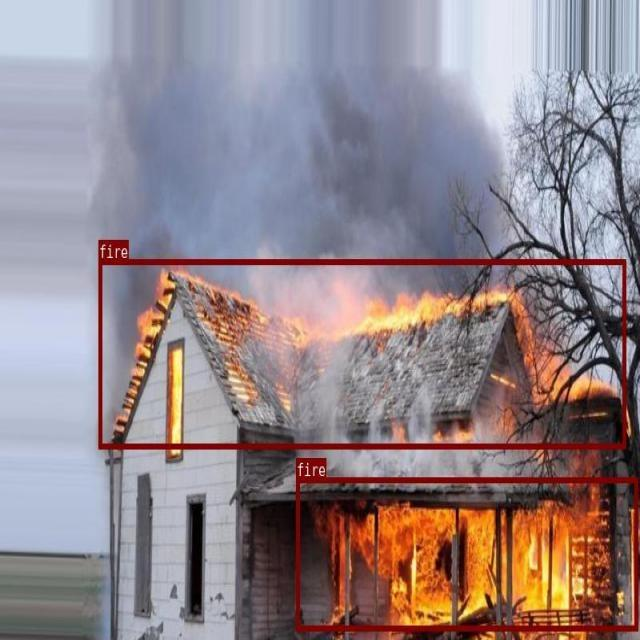fire: (98, 258, 626, 448), (296, 477, 638, 630)
